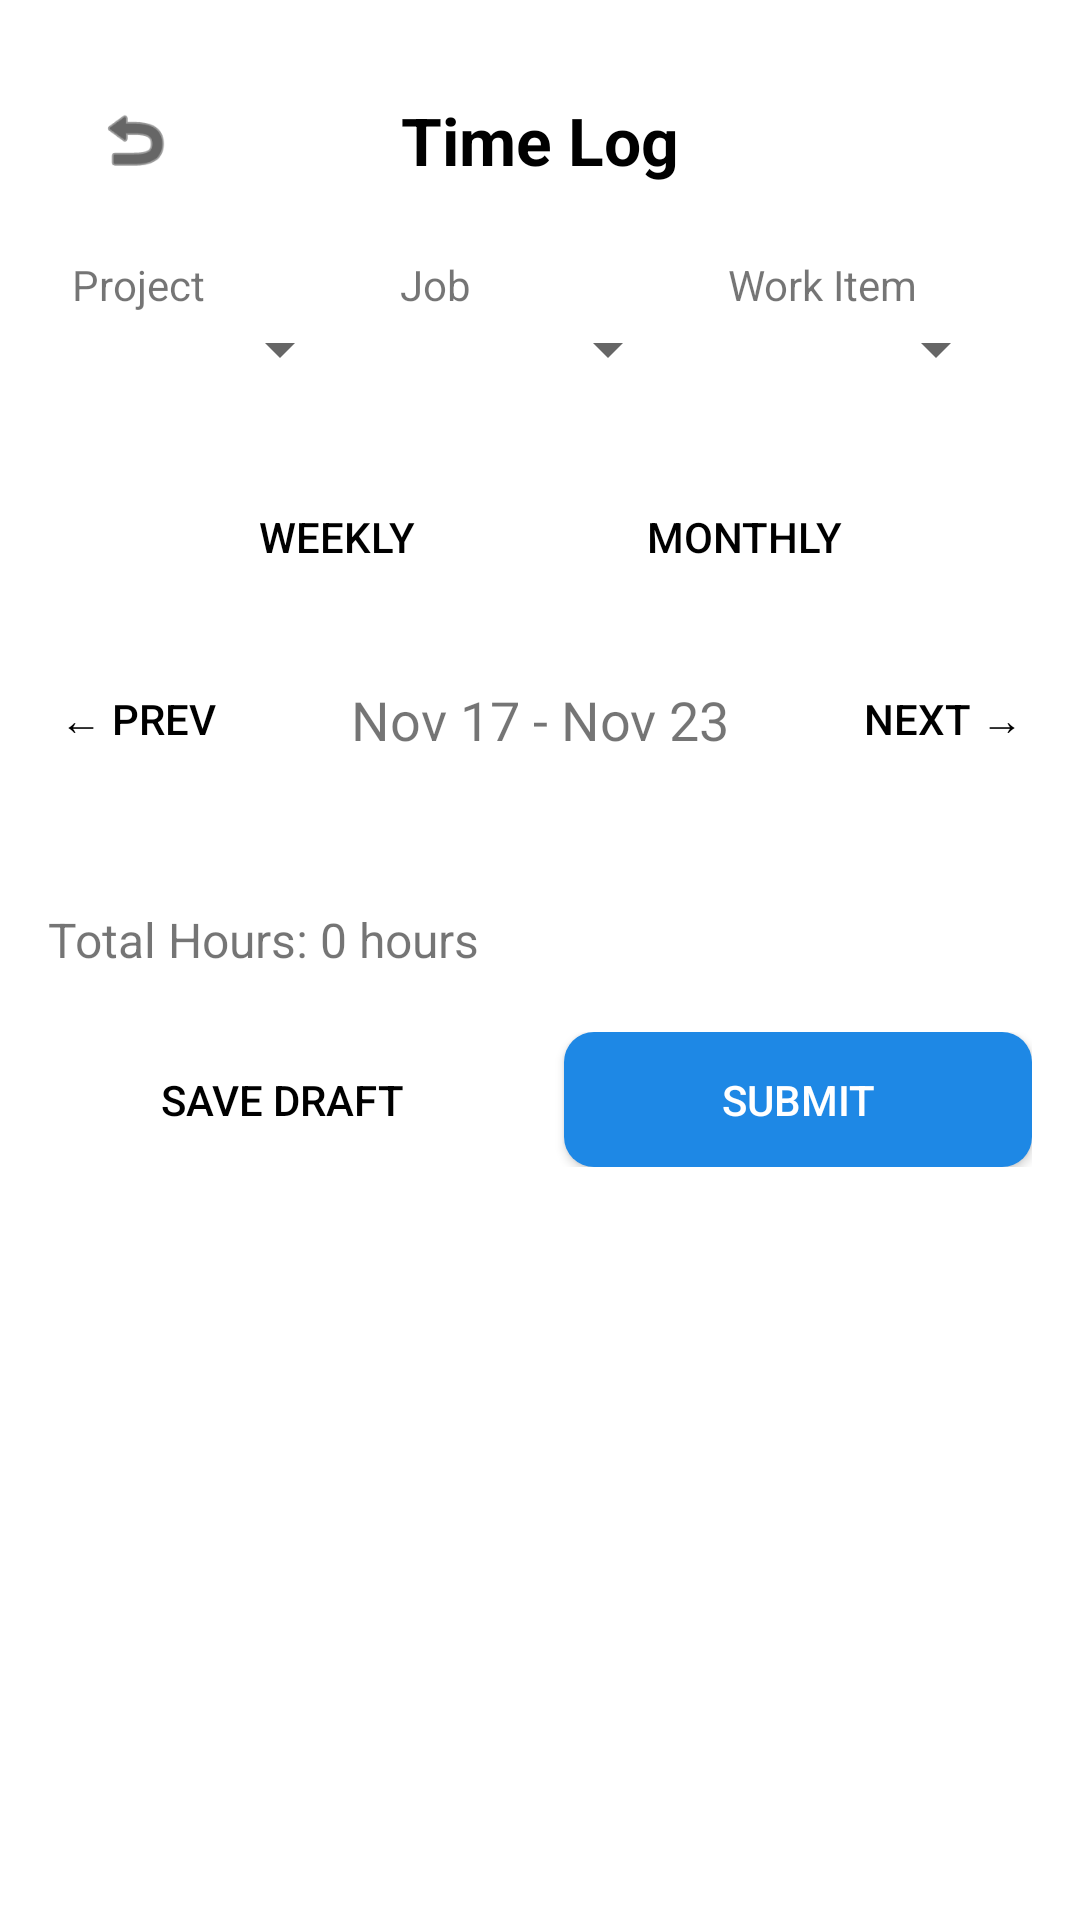

Where to tap for icons on this 1080w x 1920h app screen, as point (x, y):
revert: point (136, 140)
